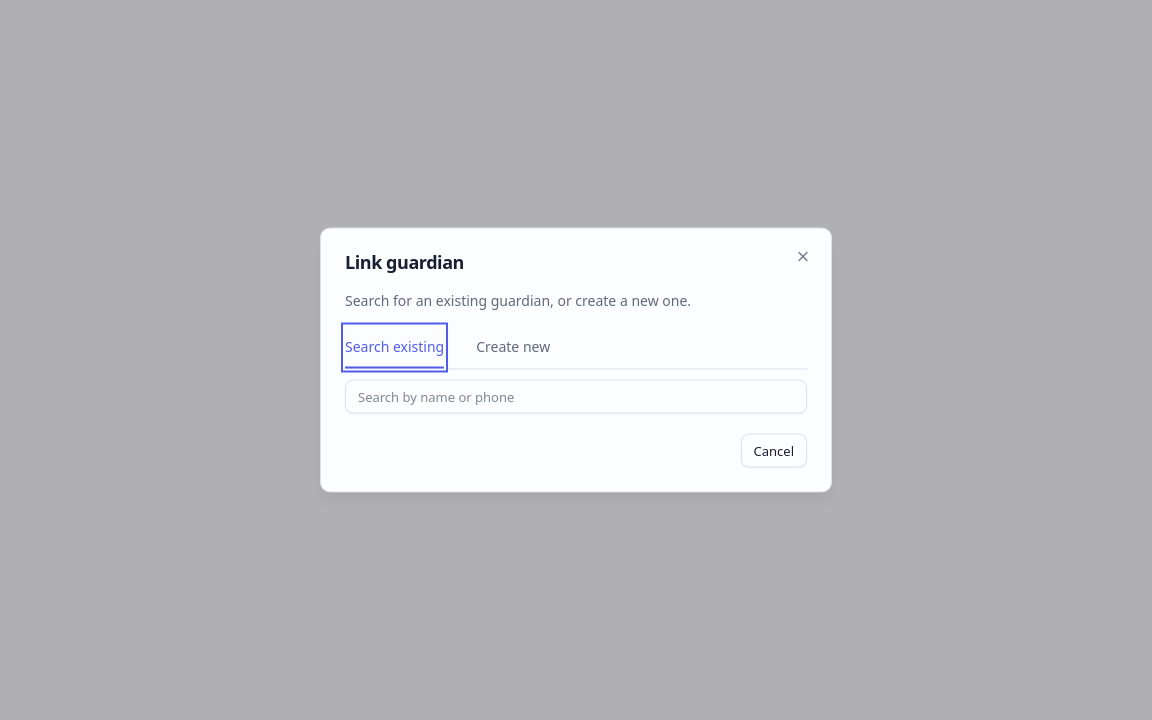
GuardianPickerDialog › excludes already-linked guardians from search results
The image size is (1152, 720).
In the field labelled "Search by name or phone": coordinates (576, 396) [345,380,807,414], type "a"
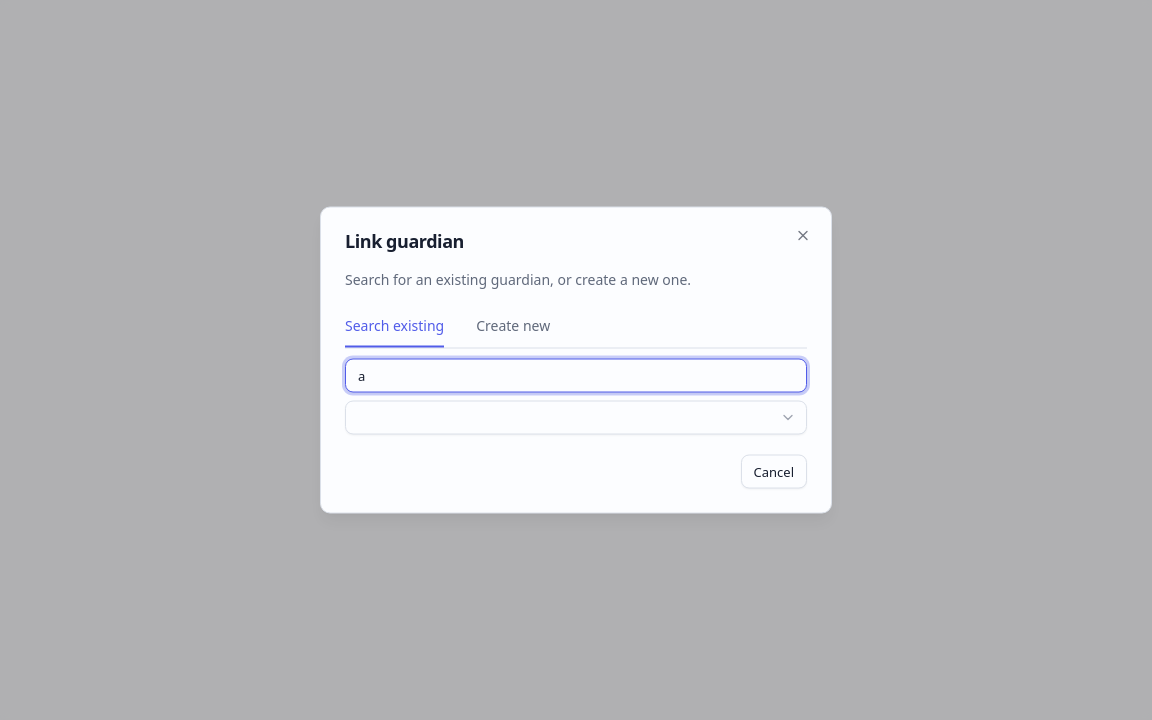
Click the dropdown named "search existing": coordinates (788, 418) [345,400,807,434]
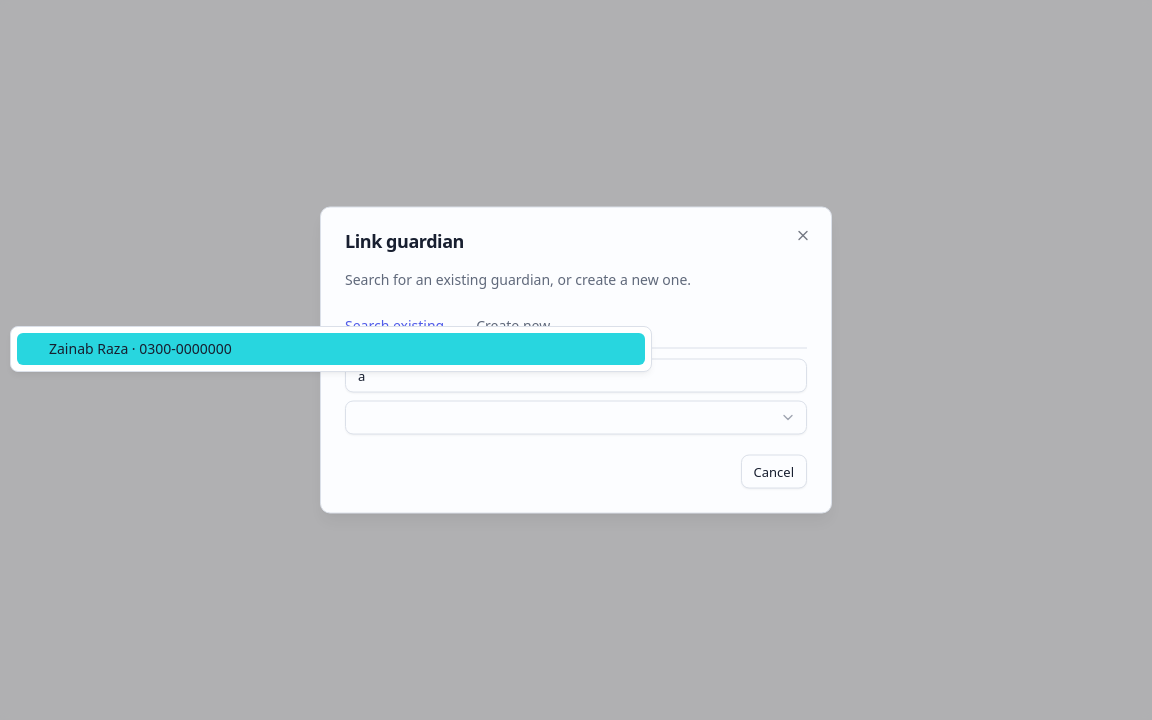
Expected: the option "Zainab Raza · 0300-0000000" is shown, [17,333,645,365]
